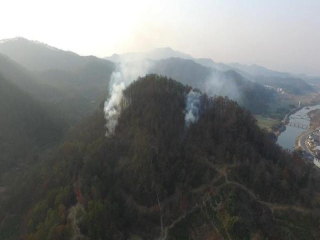smoke: (101, 56, 153, 141), (182, 71, 242, 130)
